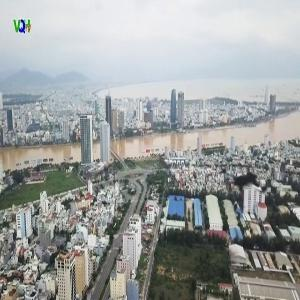drone: (192, 133, 295, 236)
